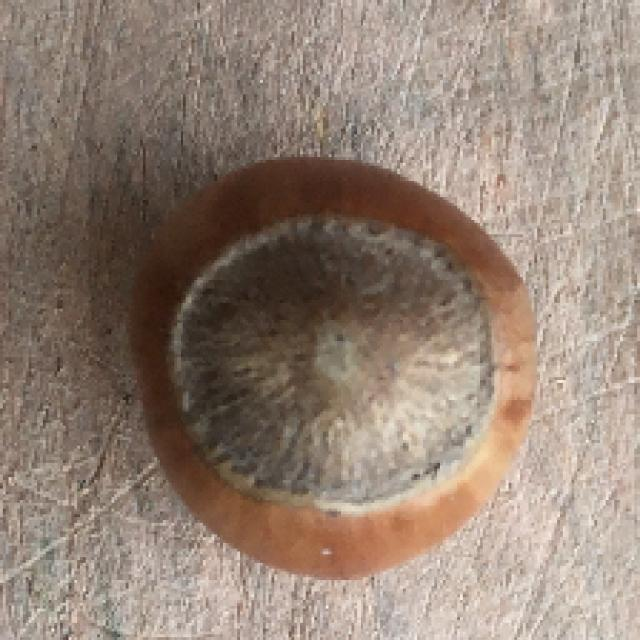qualityHazelnut: (123, 143, 535, 575)
